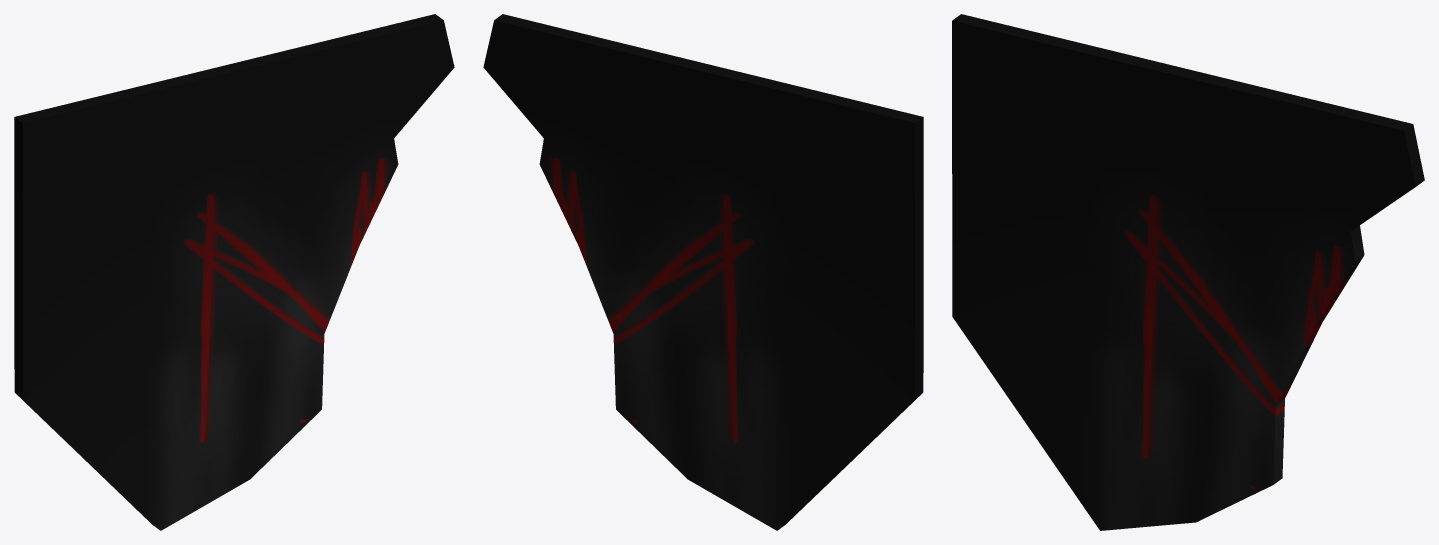
Rendered from Puzzle1.fbx.
3 renders of one model, left to right at view 1: azimuth 30°, elevation 25°; view 2: azimuth 150°, elevation 25°; view 3: azimuth 330°, elevation 25°, orthographic. The views are drawn at different scales.
Visible parts, largest first — view 1: Cube.002; view 2: Cube.002; view 3: Cube.002.
Part boxes in pixels (bbox=[...]): Cube.002: bbox=[14, 14, 454, 530]; Cube.002: bbox=[483, 14, 923, 530]; Cube.002: bbox=[952, 14, 1424, 530].
Size of the model in its own units: 28.13 by 27.5 by 0.9658.
